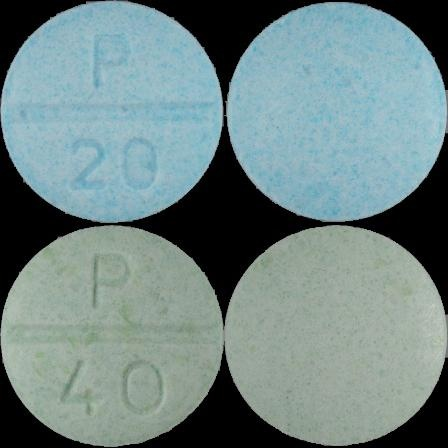23155-111: (0, 0, 224, 224)
